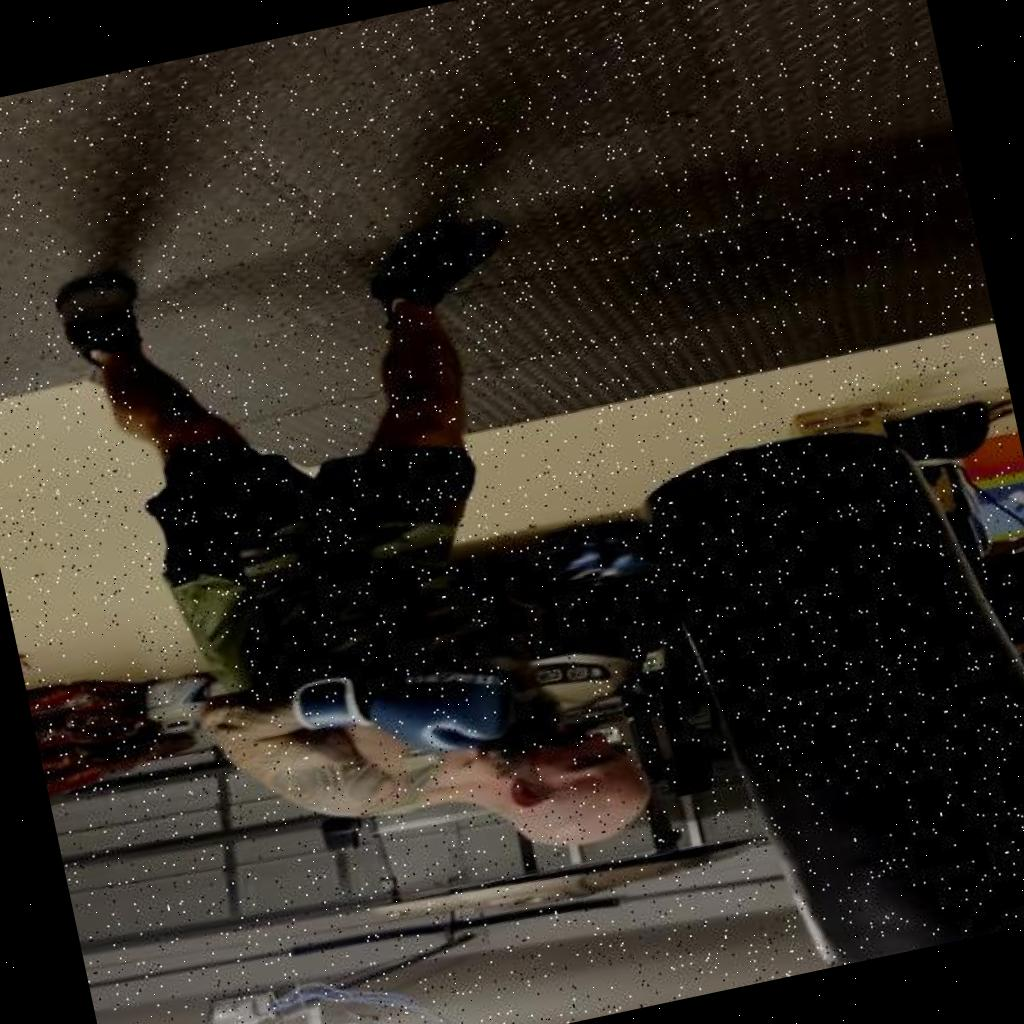uppercut: (184, 447, 801, 926)
